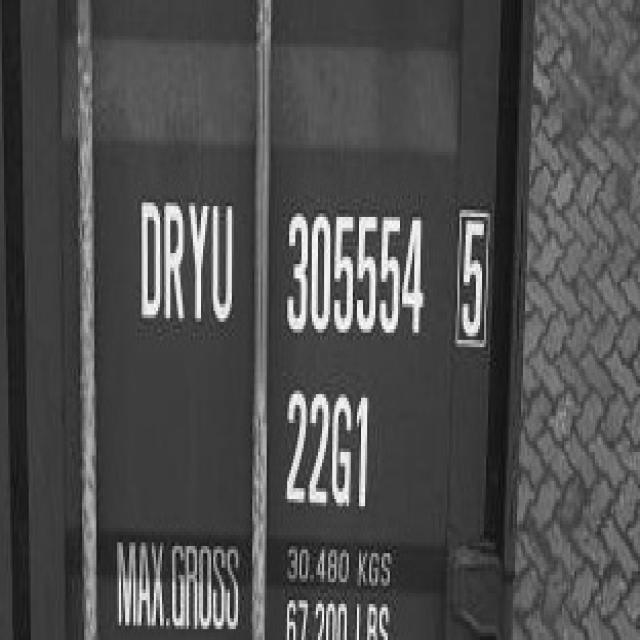dv: (447, 194, 494, 358)
owner: (132, 183, 236, 339)
serial: (281, 180, 428, 357)
size: (284, 376, 376, 518)
